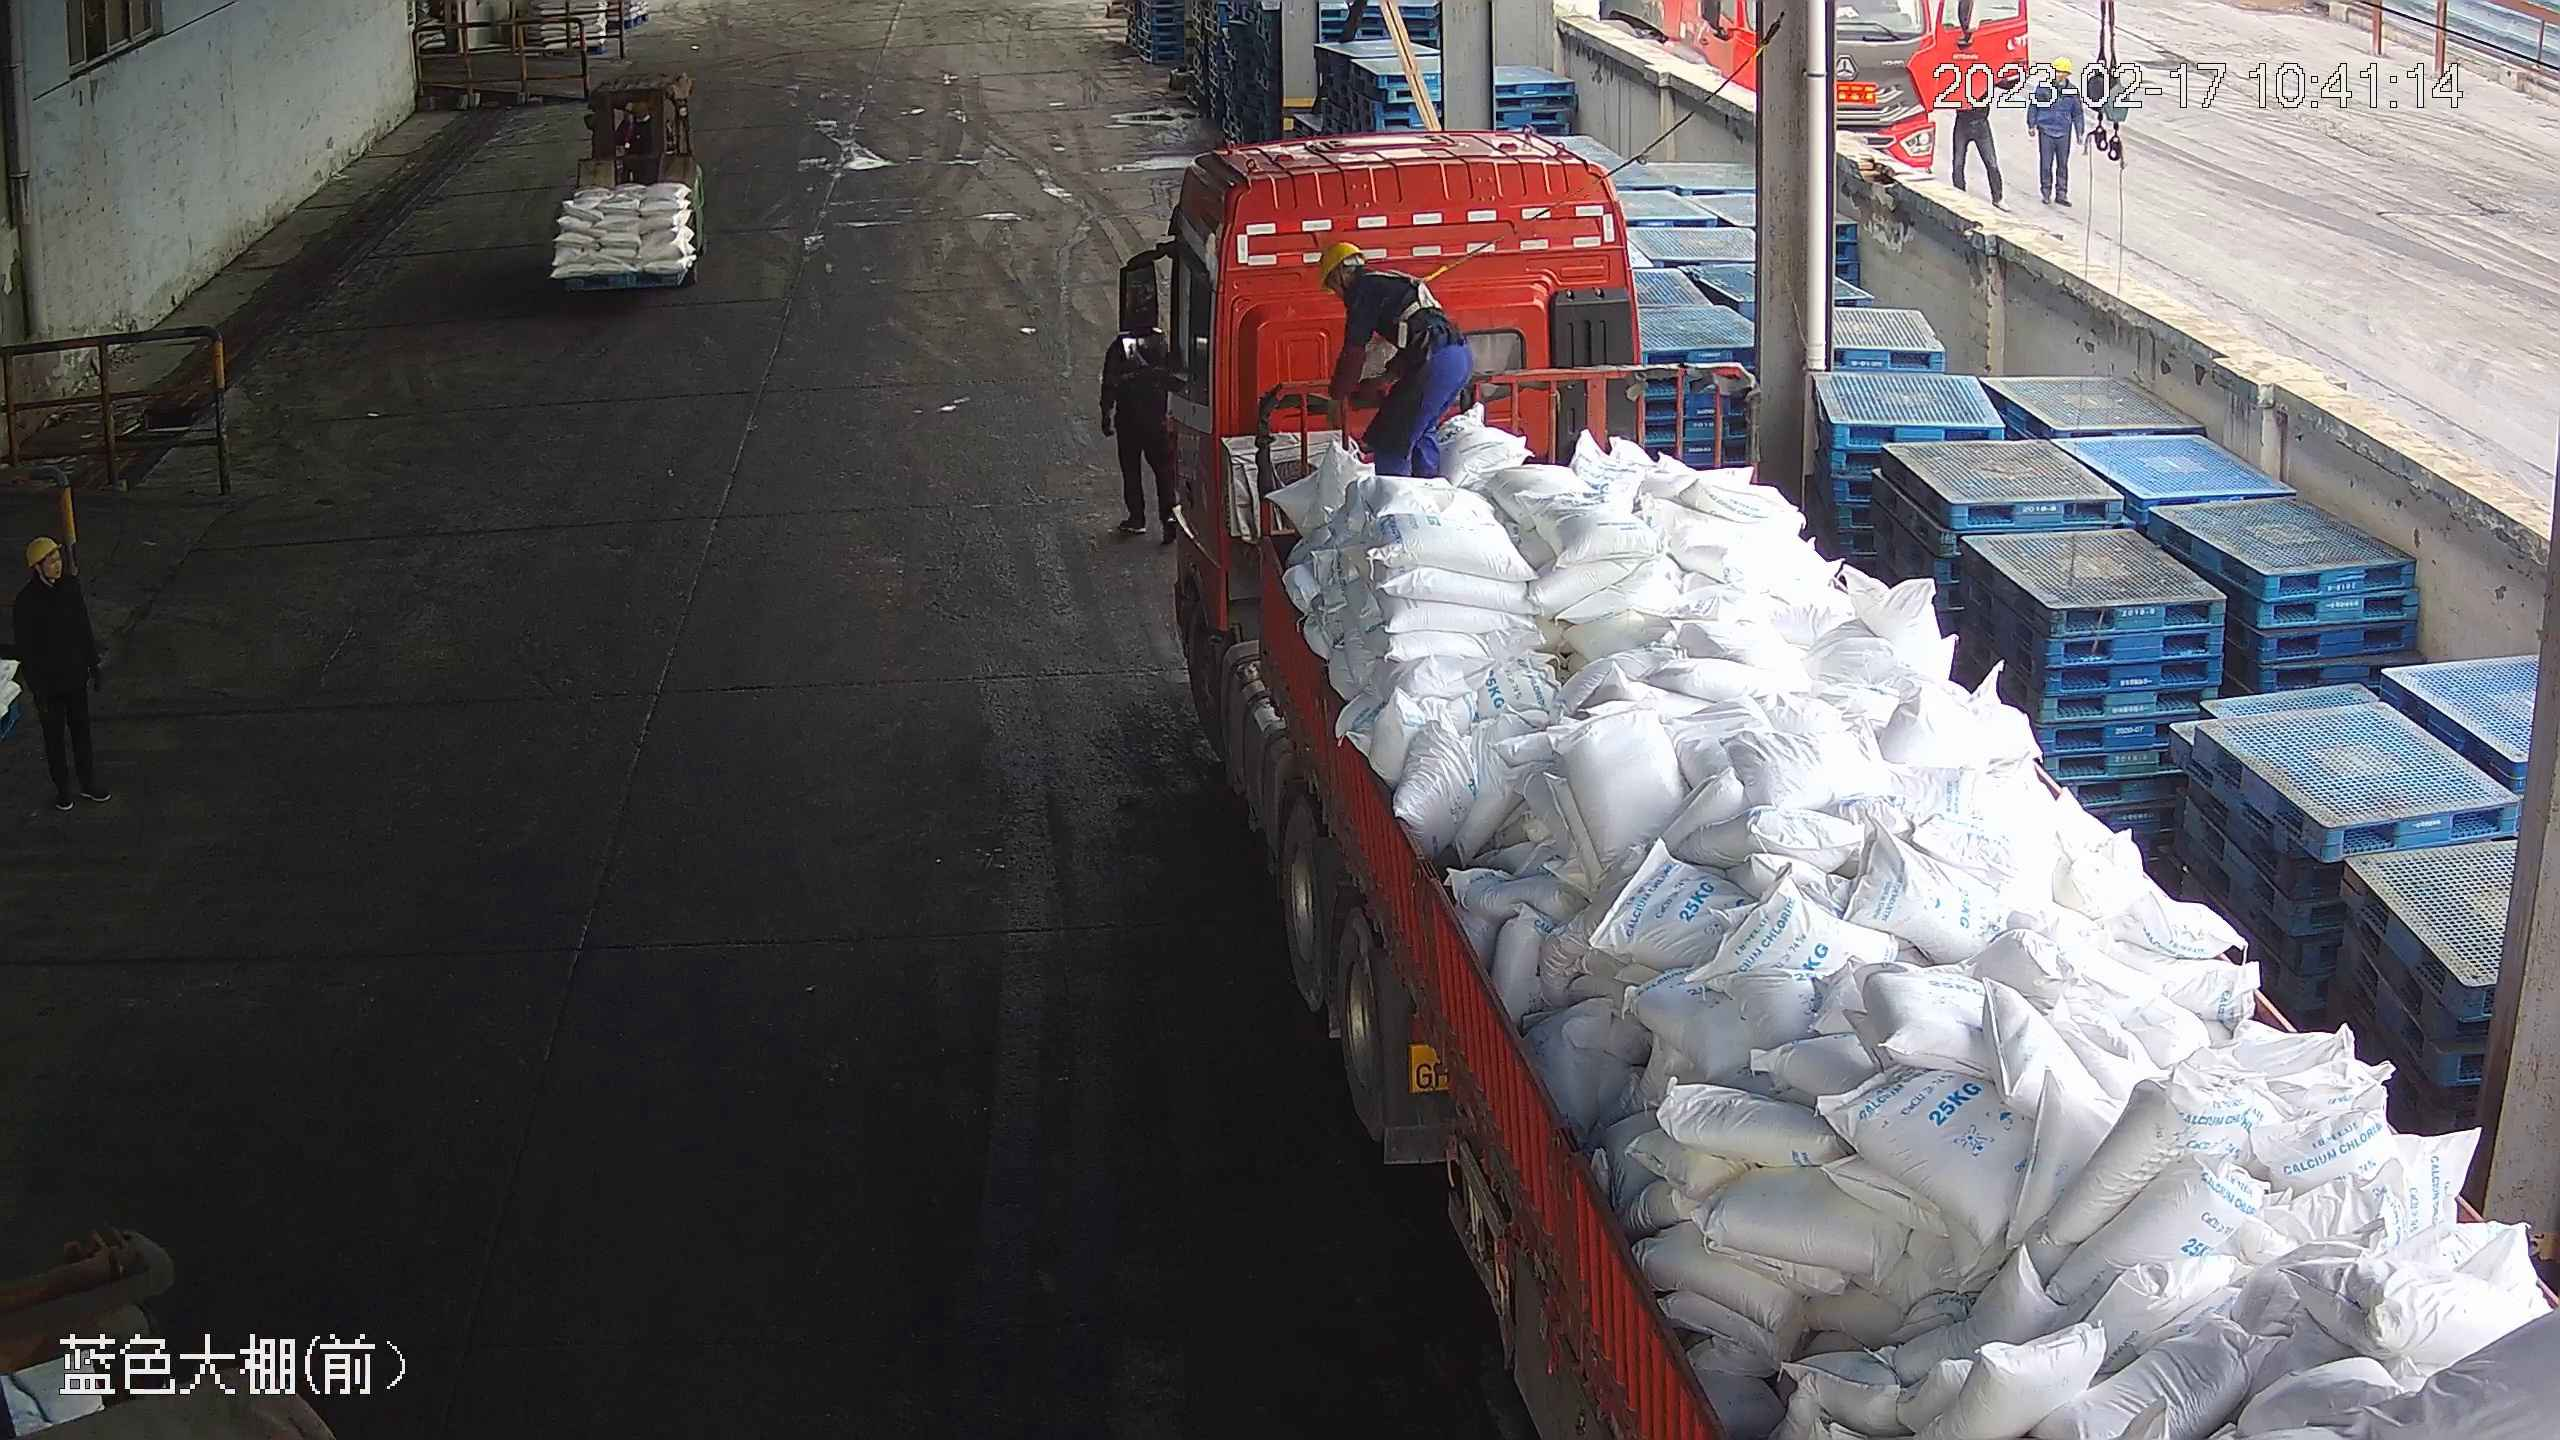belt: (1360, 263, 1447, 328)
head: (1314, 239, 1414, 323), (10, 534, 91, 620)
helmet: (1312, 237, 1360, 285), (24, 536, 62, 566), (2051, 55, 2072, 75)
people: (1307, 234, 1478, 483), (7, 533, 112, 814), (1096, 313, 1178, 543), (2029, 53, 2088, 206), (2041, 54, 2082, 104)
truck: (1114, 121, 2555, 1440)
